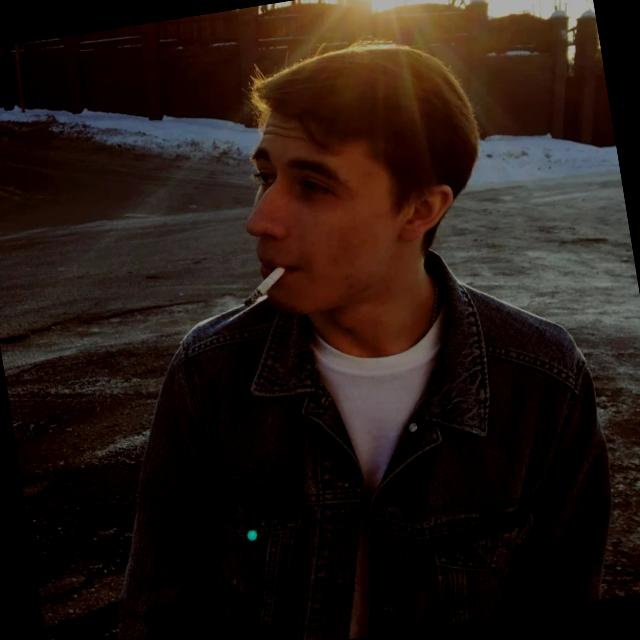cigarette: (238, 263, 294, 310)
